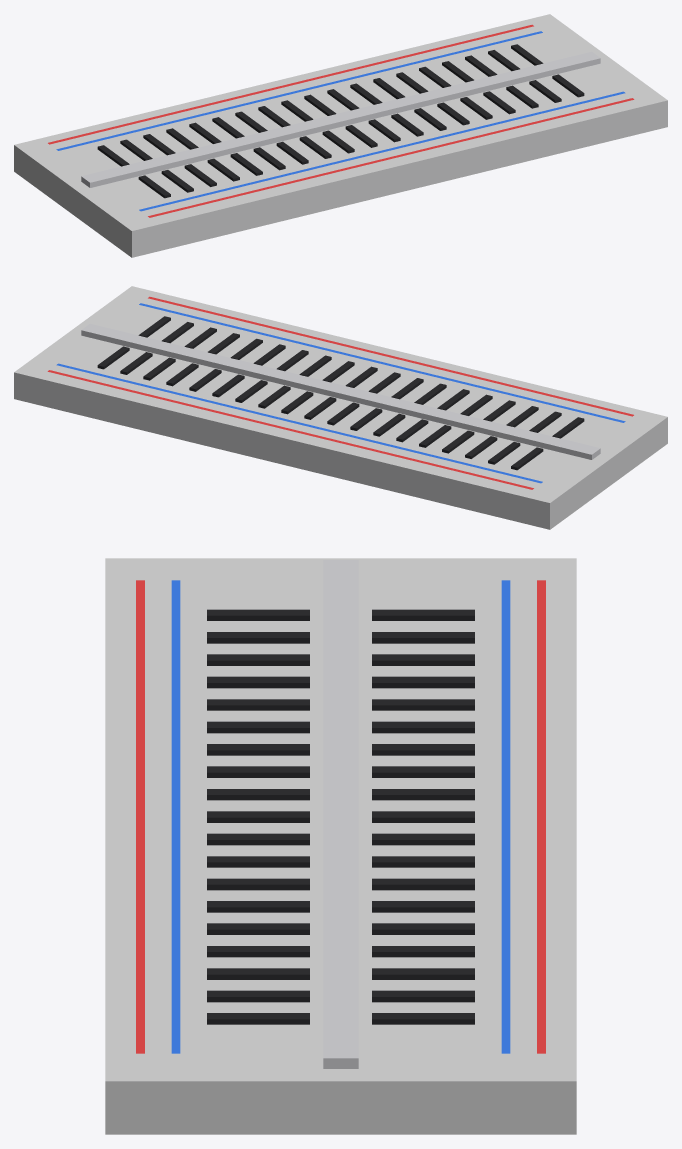
The model's file is breadboard.glb.
3 views of the same model, one above another, from view 1: azimuth 30°, elevation 25°; view 2: azimuth 150°, elevation 25°; view 3: azimuth 270°, elevation 25° (orthographic). The views are drawn at different scales.
Bounding box in the file's own units: 0.42 × 0.024 × 0.16.
